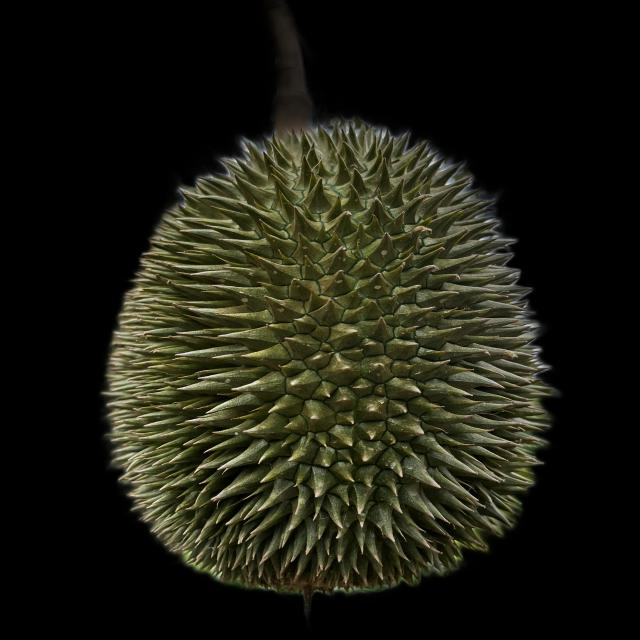immature: (98, 113, 553, 596)
